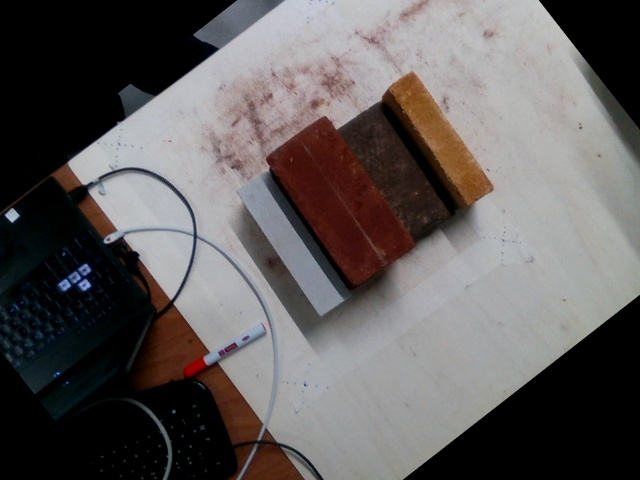brick: (264, 114, 414, 285), (337, 98, 461, 242)
brick-side: (232, 169, 349, 316), (386, 68, 497, 207)
